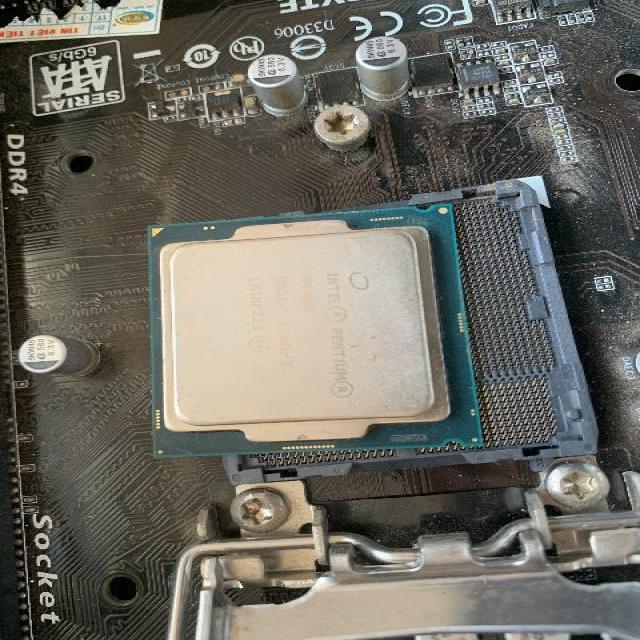CPU: (142, 206, 485, 457)
Mainboard: (0, 0, 640, 640)
